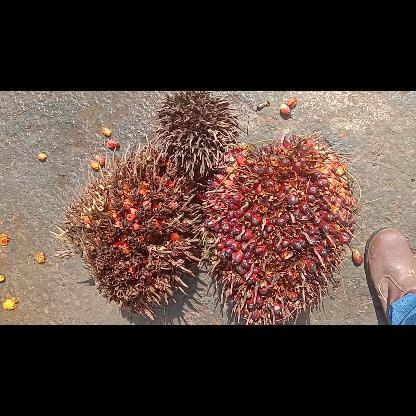Janjang kosong: (148, 91, 240, 179)
TBS masak: (195, 132, 361, 324)
Terlalu masak: (55, 136, 205, 320)
